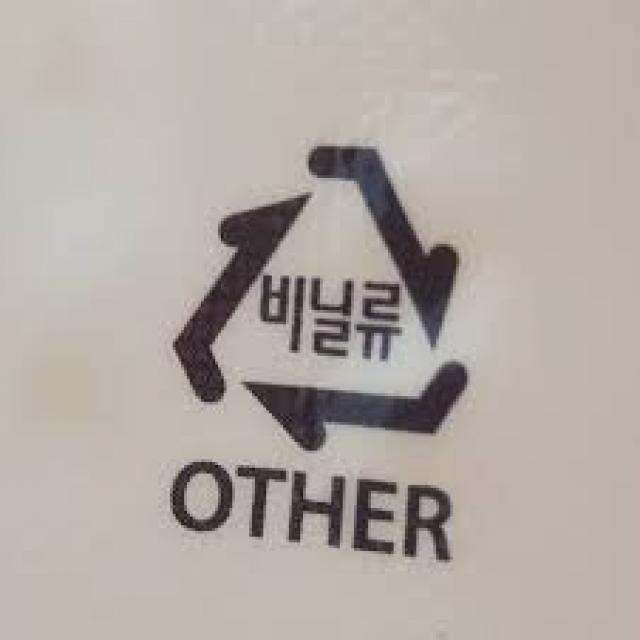Vinyl: (164, 135, 480, 459)
